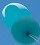Balloon: (11, 17, 40, 44)
